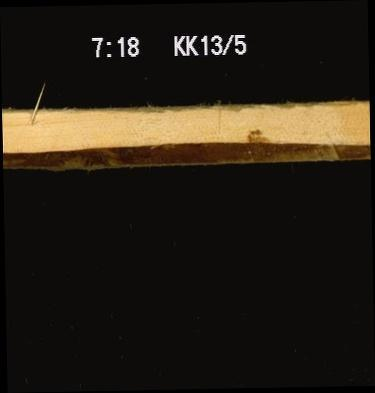wave: (2, 135, 370, 169)
